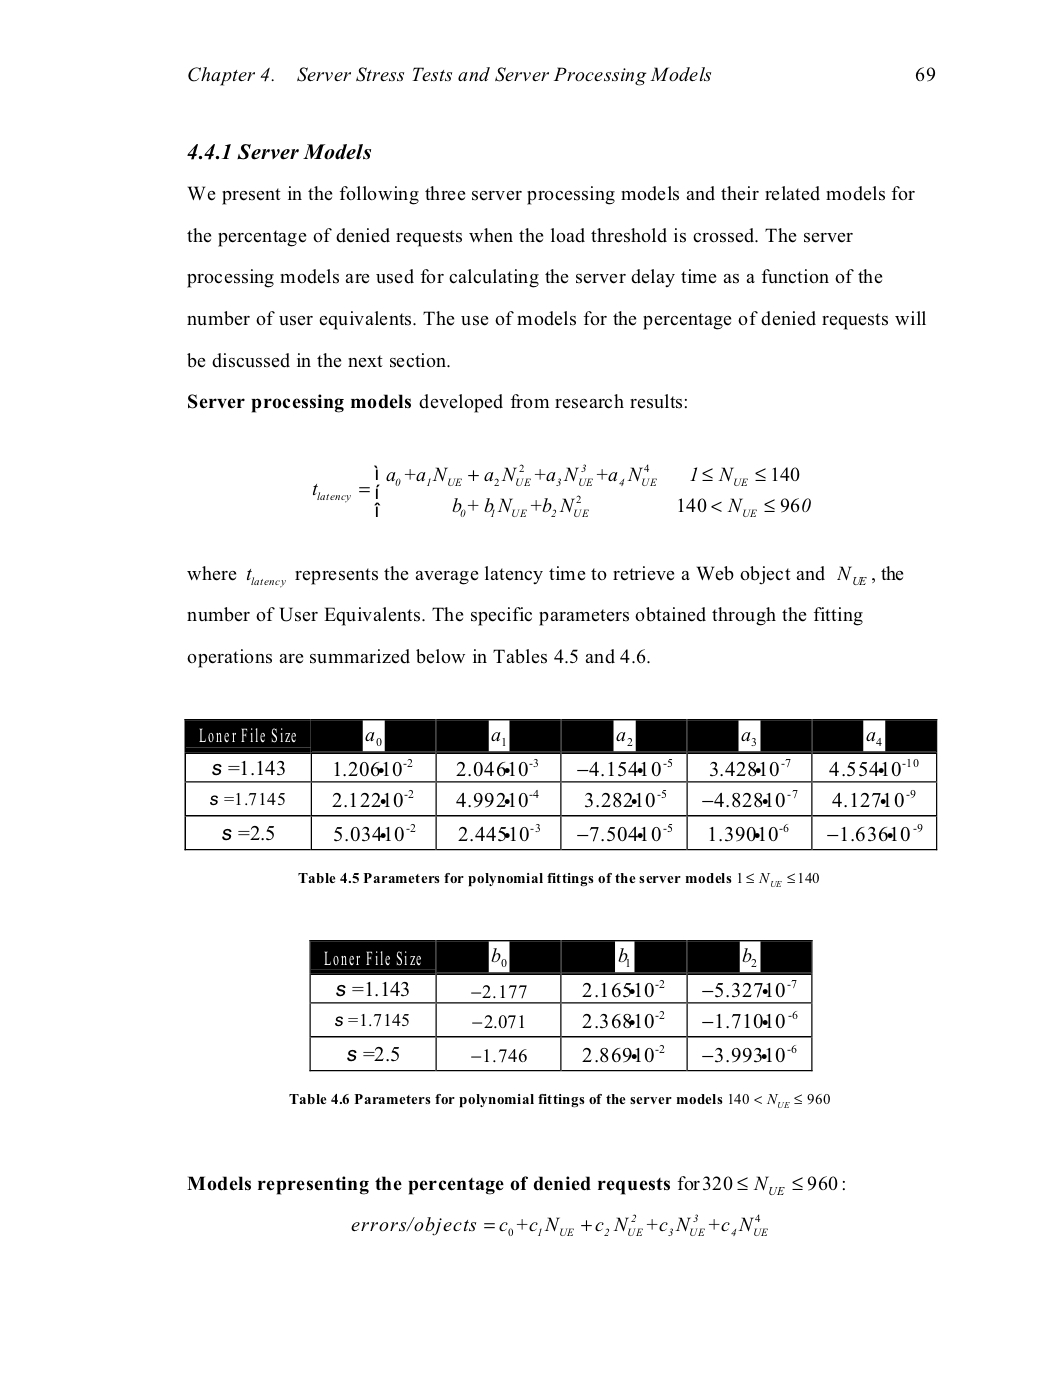Table: (184, 718, 937, 851), (309, 938, 812, 1072)
formula: (312, 462, 810, 518), (351, 1213, 767, 1237)
